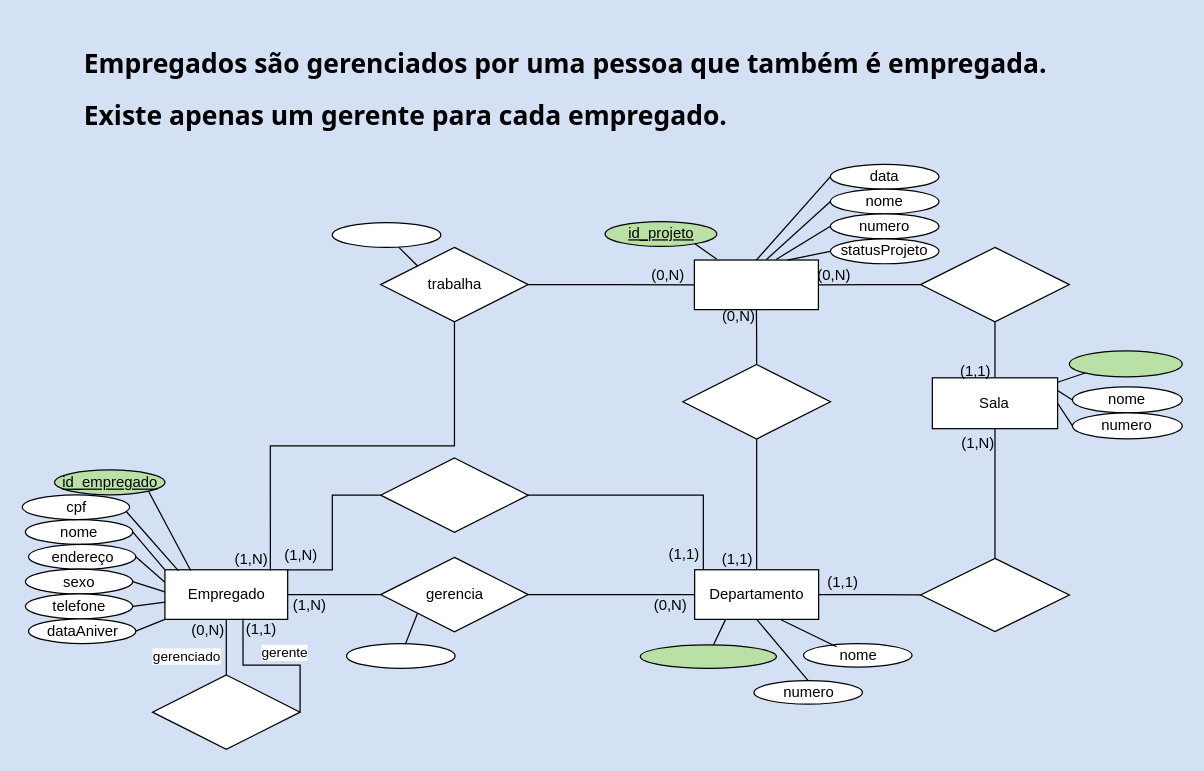
The diagram is 1204 pixels wide and 771 high, and some of its shapes have lost their labels. The shapes that lost their labels are listed below. From the top down, each one's centre as x and y in pixels, then its label:
the point at 386,234: nroHoras
the point at 755,284: Projeto
the point at 994,284: é executado
the point at 1125,363: id_sala
the point at 756,401: controla
the point at 453,494: é alocao
the point at 994,594: está localizado
the point at 400,655: dataInicio
the point at 707,656: id_departamento
the point at 225,711: é gerente de
